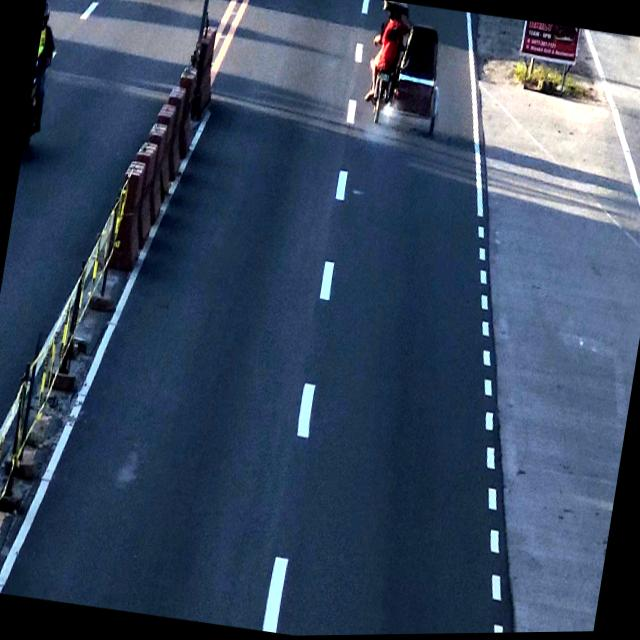Tricycle: (360, 0, 454, 141)
